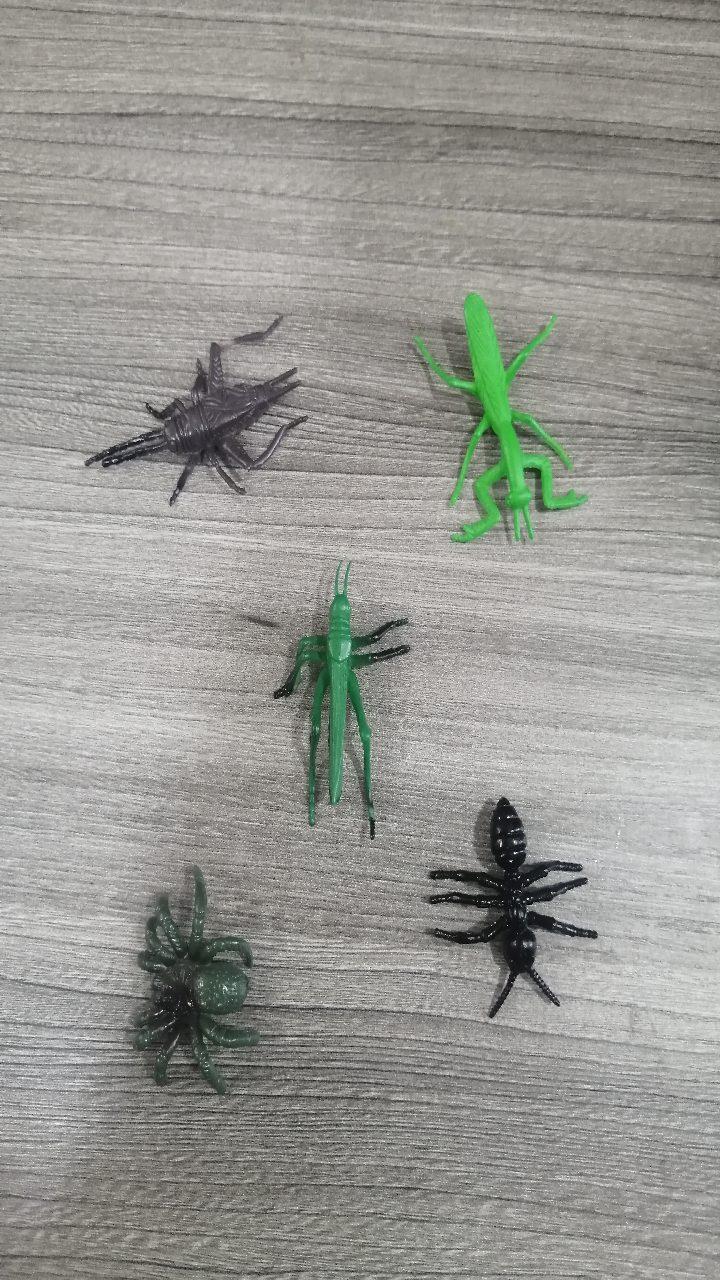intruso: (377, 257, 612, 582), (75, 839, 283, 1120), (400, 779, 629, 1034), (68, 302, 315, 535), (238, 548, 417, 865)
